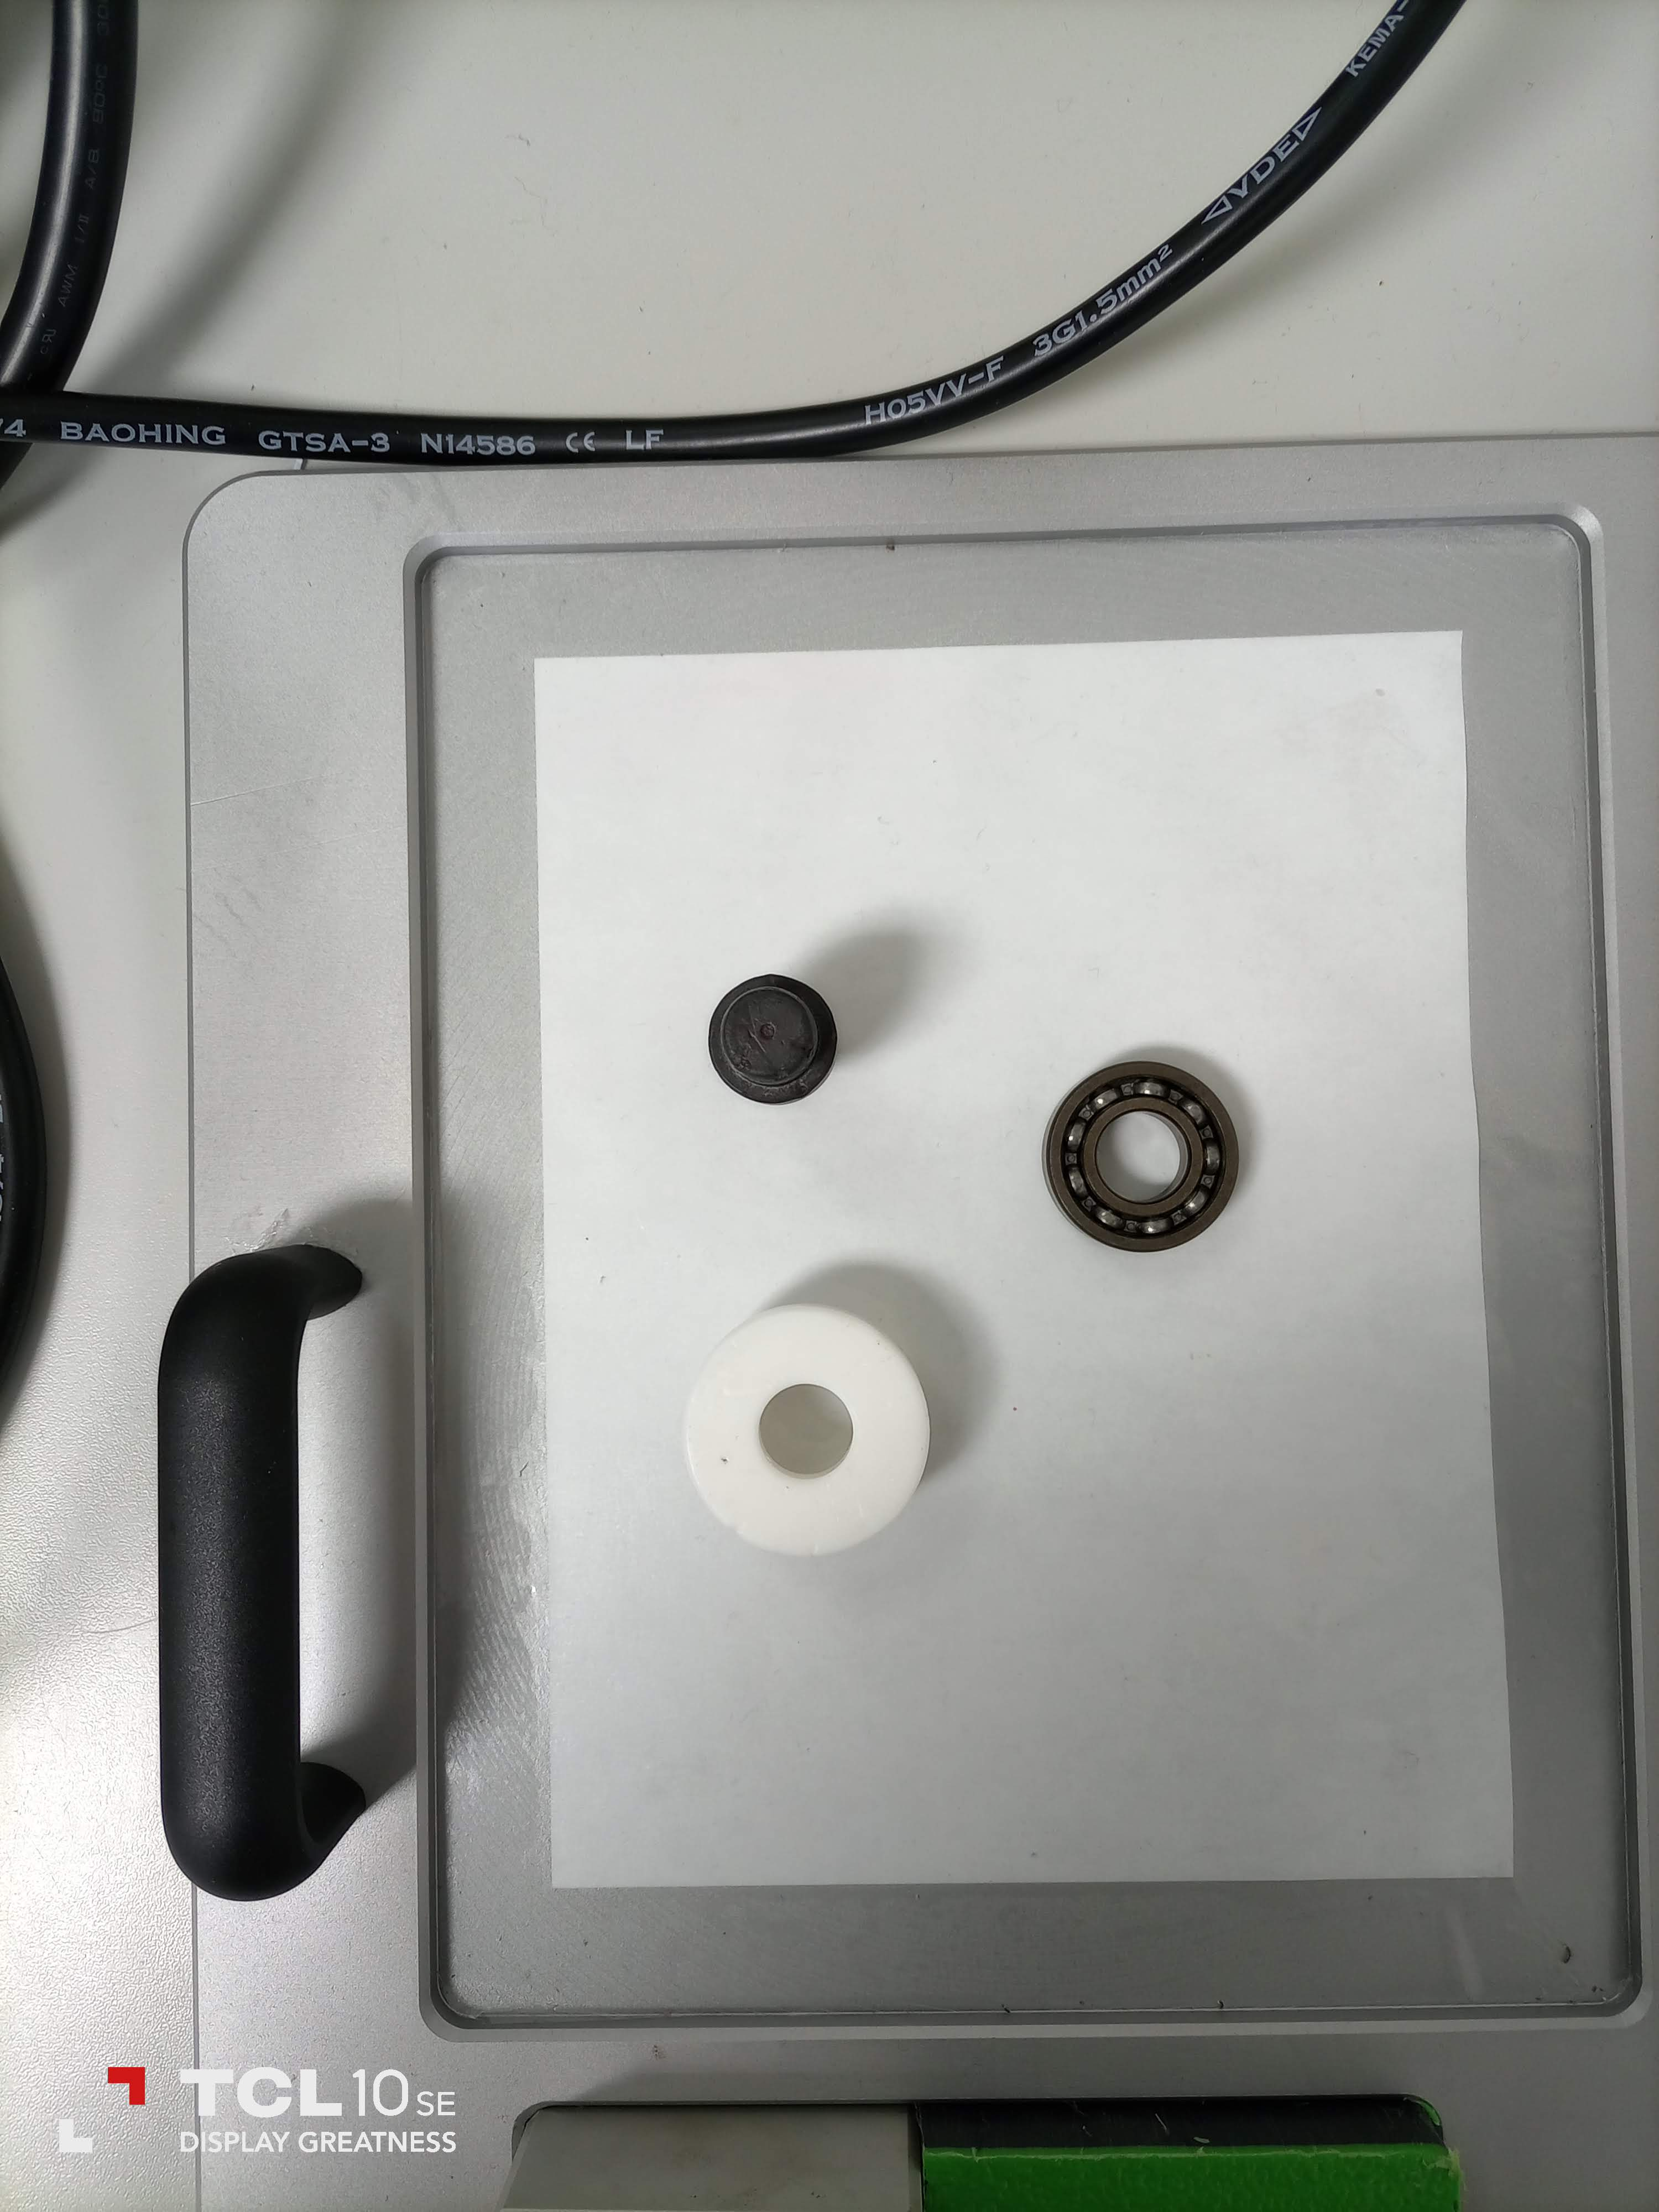Ardatza: (701, 965, 852, 1109)
Roda: (1032, 1043, 1262, 1252)
Tapa: (678, 1287, 943, 1552)
